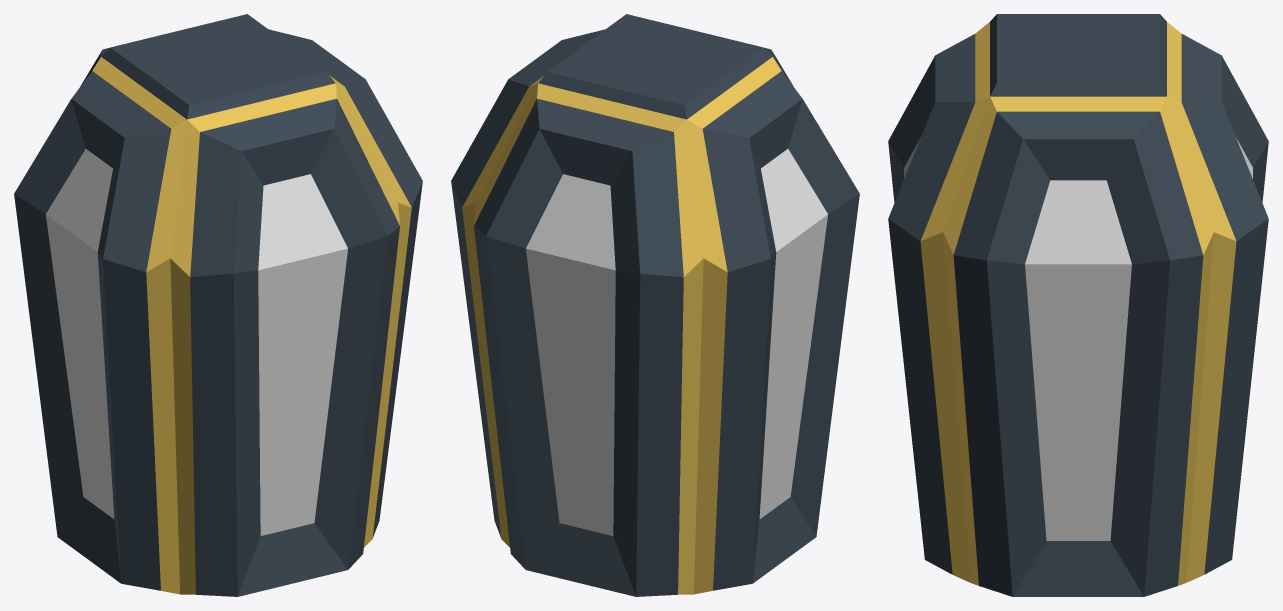
Rendered from TowerBase.fbx.
The picture shows the model from 3 angles, left to right: view 1: azimuth 30°, elevation 25°; view 2: azimuth 150°, elevation 25°; view 3: azimuth 270°, elevation 25°; orthographic projection. The views are drawn at different scales.
Visible parts, largest first — view 1: Cube; view 2: Cube; view 3: Cube.
Boxes of the visible parts, <box> form: Cube: <box>14,14,422,596</box>; Cube: <box>451,14,859,596</box>; Cube: <box>888,14,1268,596</box>.
Bounding box in the file's own units: 353 × 500 × 353.
